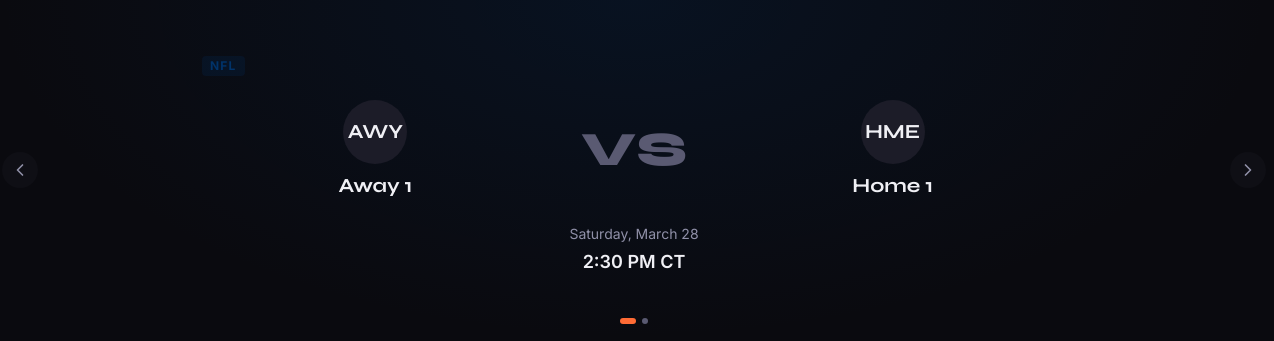
Test: HeroBanner › navigates to next event on next arrow click
The width and height of the screenshot is (1274, 341).
Expected: the text "Home 1" is shown, x1=852 y1=173 x2=933 y2=198
Click the button named "Next event": (1248, 170) x1=1230 y1=152 x2=1266 y2=188
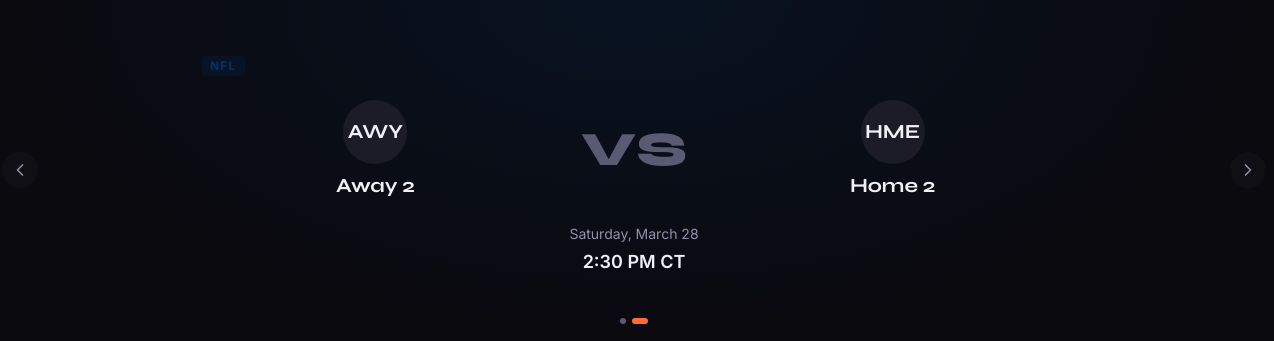
Expected: the text "Home 2" is shown, x1=850 y1=173 x2=935 y2=198
